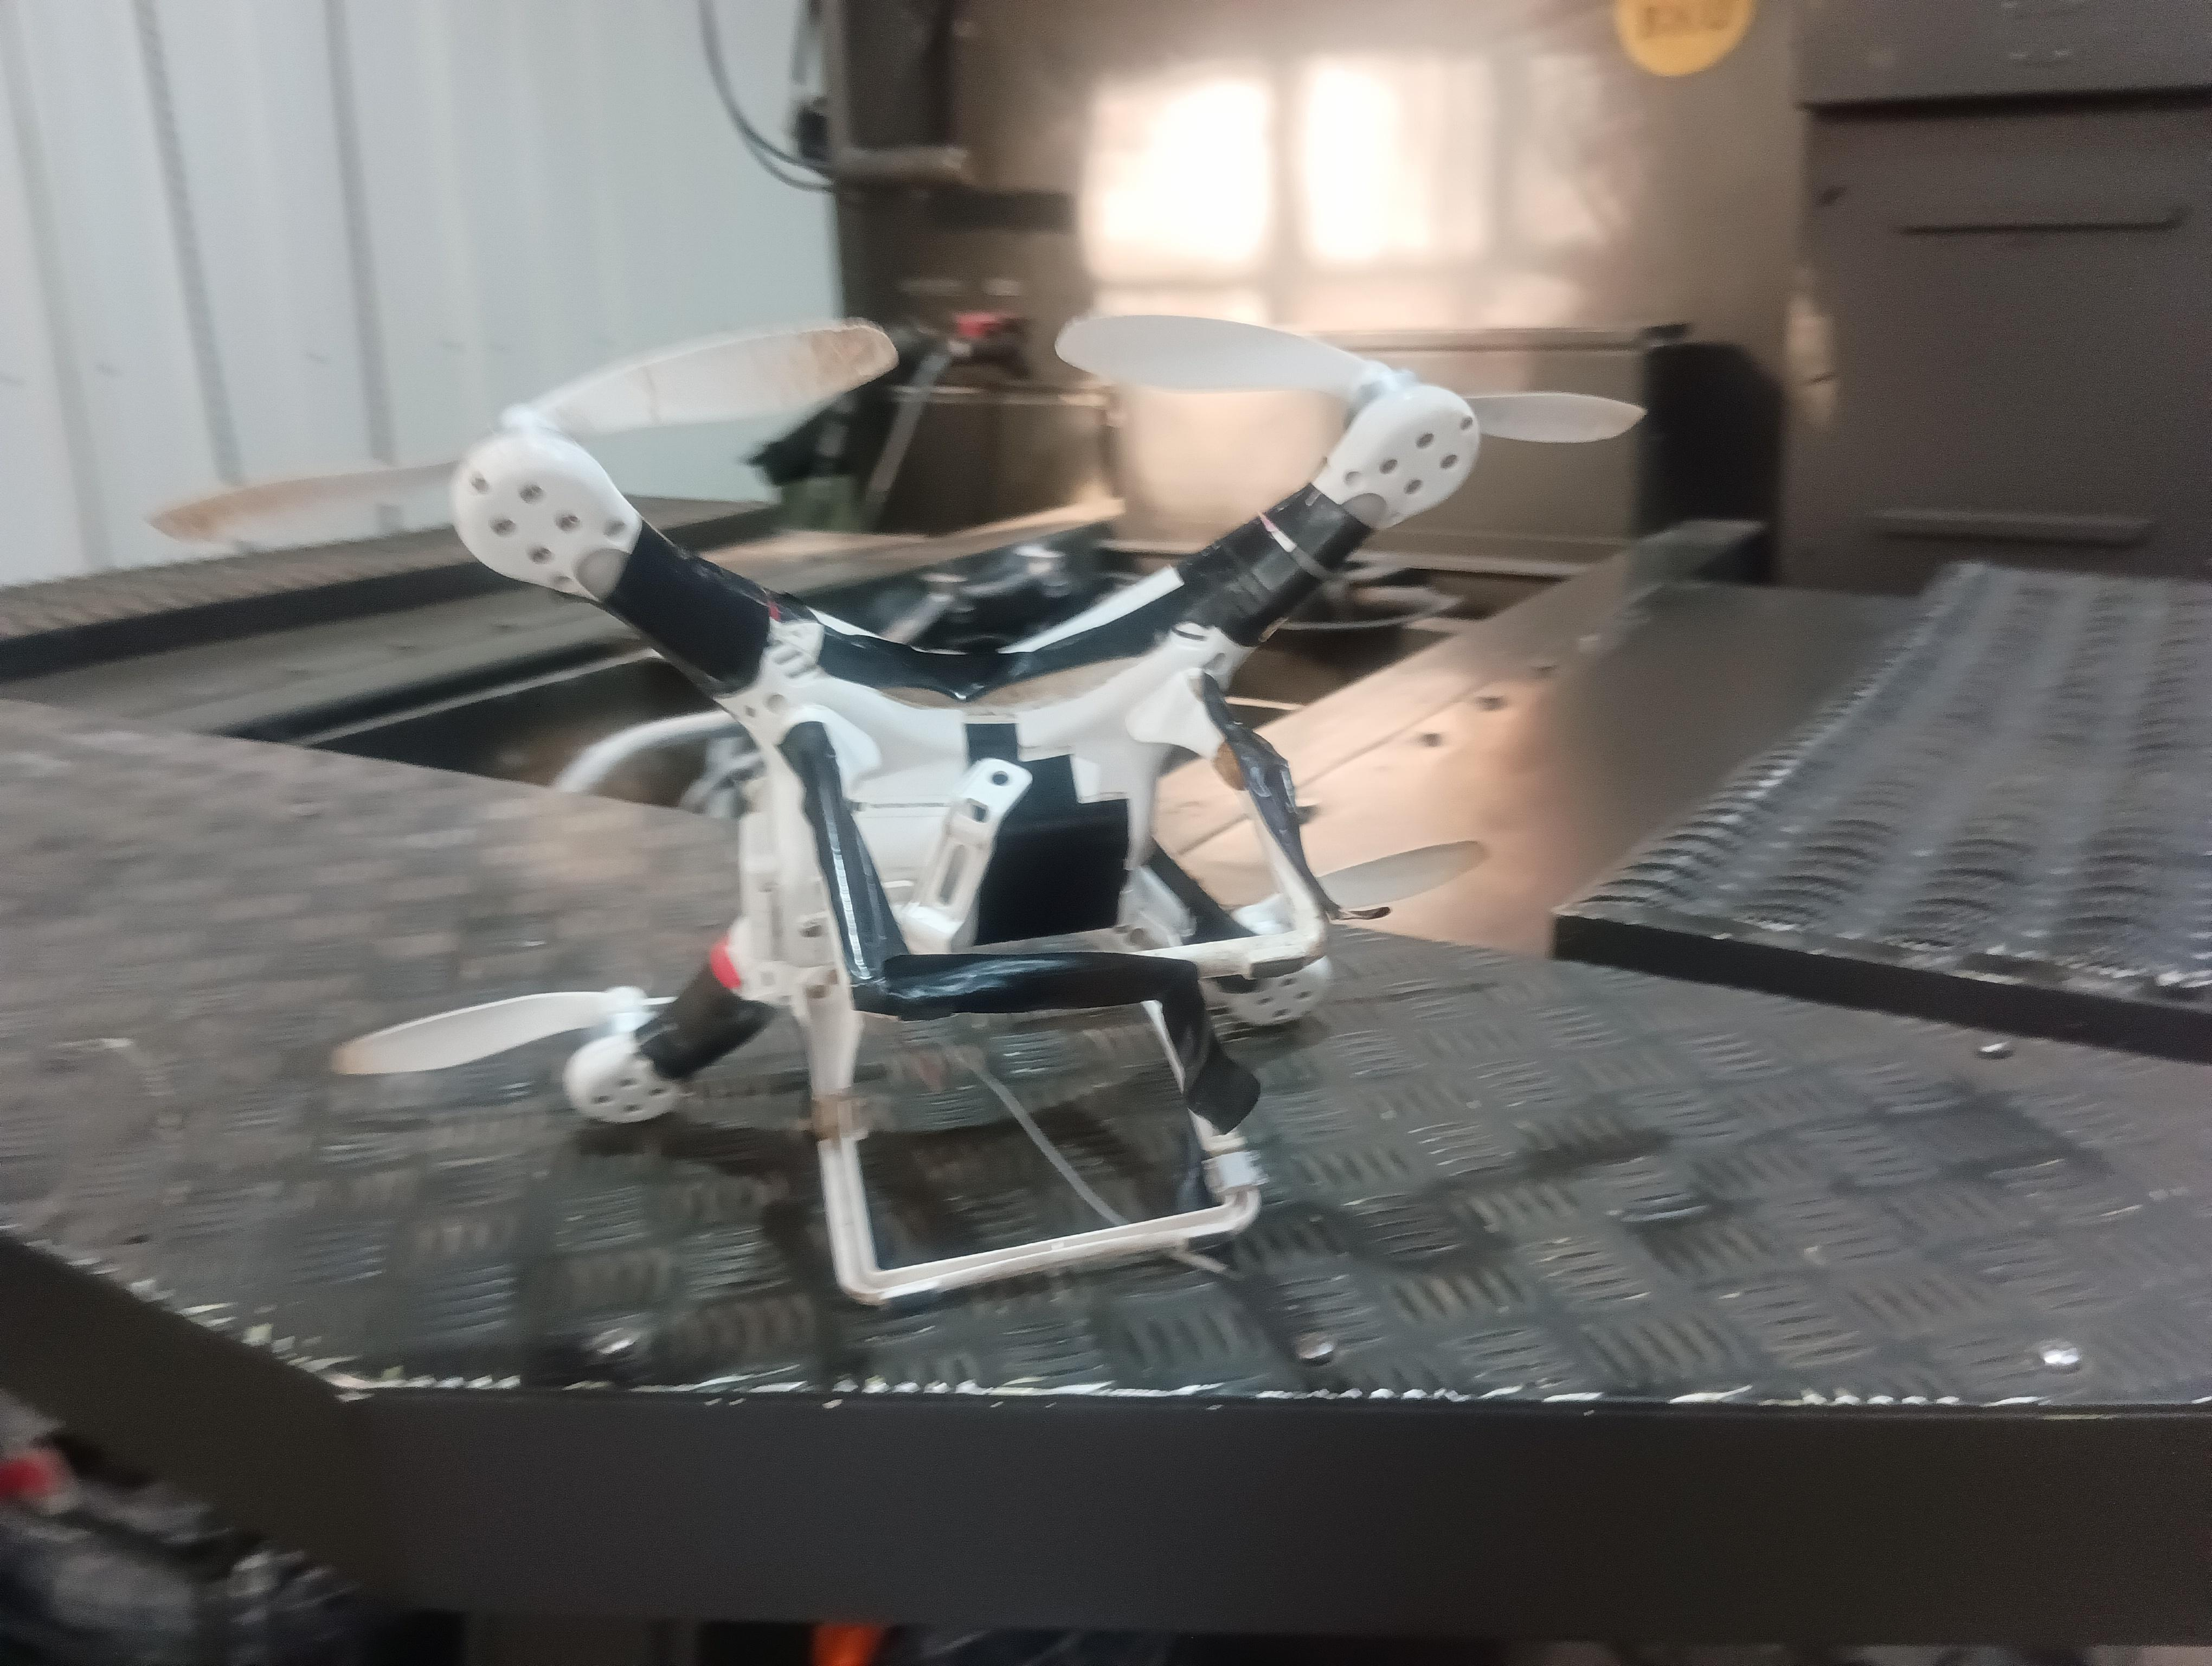drone: (250, 245, 1689, 1328)
